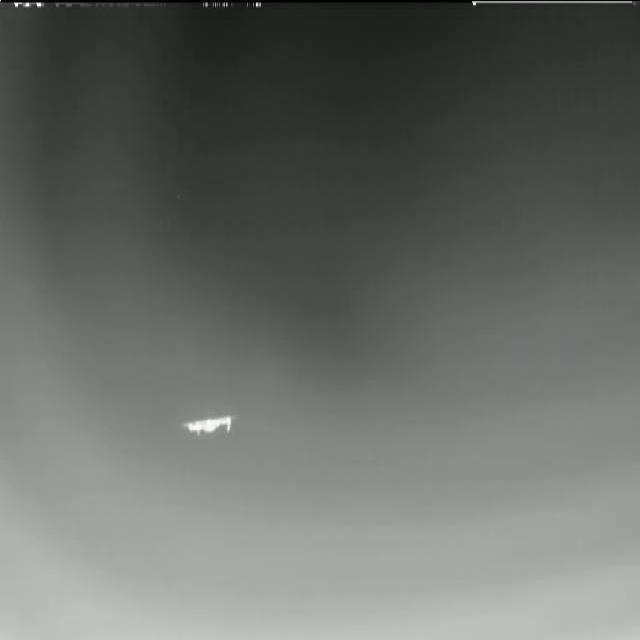DRONE: (177, 404, 237, 444)
